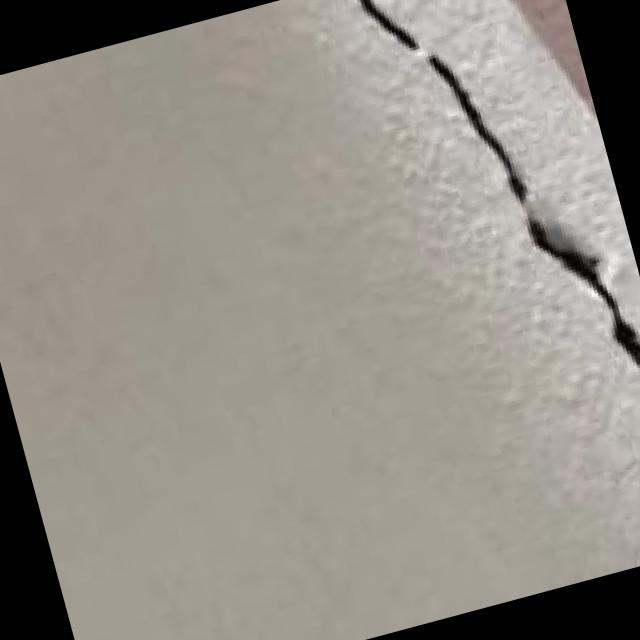crack: (301, 0, 640, 509)
